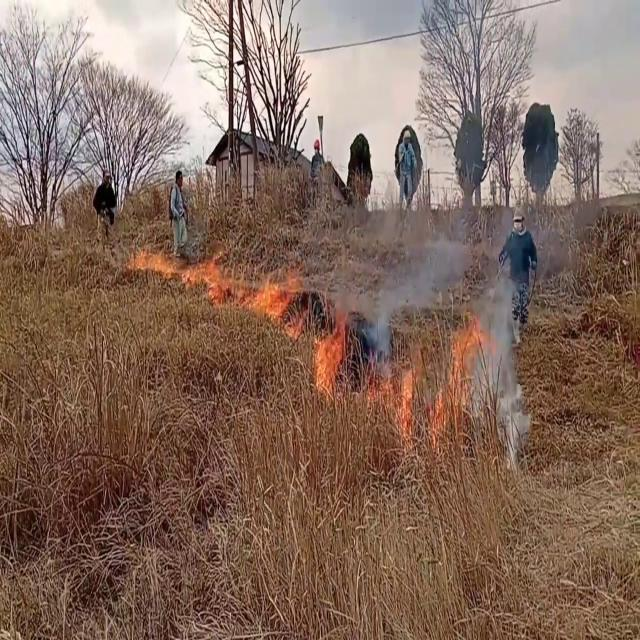Fire: (133, 240, 238, 312), (437, 300, 490, 432), (366, 338, 420, 441), (246, 258, 306, 336), (310, 304, 348, 404)
Smoke: (370, 172, 469, 344), (479, 248, 526, 440)
